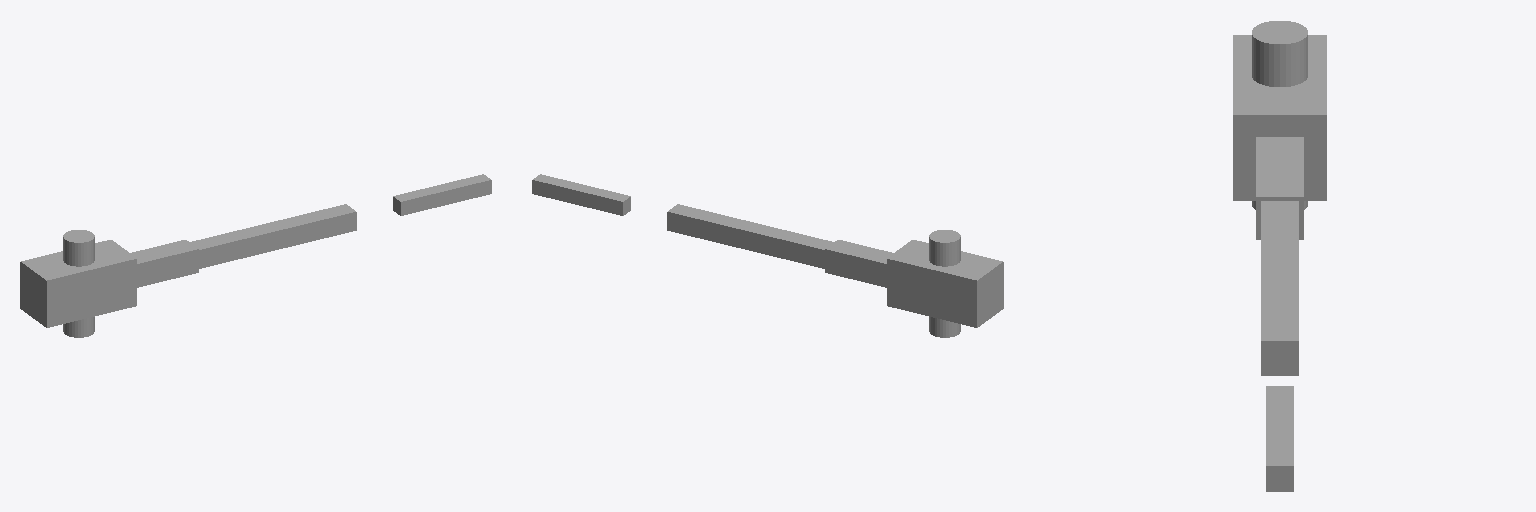
URDF robot description (Robot):
<?xml version="1.0" ?>
<robot name="Robot">
  <material name="silver">
    <color rgba="0.700 0.700 0.700 1.000"/>
  </material>

  <link name="base_link">
    <inertial>
      <origin xyz="0 0 0" rpy="0 0 0"/>
      <mass value="0.01"/>
      <inertia ixx="0.001" iyy="0.001" izz="0.001" ixy="0.0" iyz="0.0" ixz="0.0"/>
    </inertial>
    <visual>
      <origin xyz="0 0 0" rpy="0 0 0"/>
      <geometry>
        <box size="0.02 0.01 0.01"/>
      </geometry>
      <material name="silver"/>
    </visual>
    <collision>
      <origin xyz="0 0 0" rpy="0 0 0"/>
      <geometry>
        <box size="0.02 0.01 0.01"/>
      </geometry>
    </collision>
  </link>

  <link name="End_1">
    <inertial>
      <origin xyz="0.025 0.002 0.0" rpy="0 0 0"/>
      <mass value="0.02"/>
      <inertia ixx="1e-06" iyy="9e-06" izz="9e-06" ixy="0.0" iyz="0.0" ixz="0.0"/>
    </inertial>
    <visual>
      <origin xyz="0 0 0" rpy="0 0 0"/>
      <geometry>
        <box size="0.03 0.005 0.005"/>
      </geometry>
      <material name="silver"/>
    </visual>
    <collision>
      <origin xyz="0 0 0" rpy="0 0 0"/>
      <geometry>
        <box size="0.03 0.005 0.005"/>
      </geometry>
    </collision>
  </link>

  <link name="Middle_1">
    <inertial>
      <origin xyz="0.016 0.002 0.0" rpy="0 0 0"/>
      <mass value="0.015"/>
      <inertia ixx="0.0" iyy="2e-06" izz="2e-06" ixy="0.0" iyz="0.0" ixz="0.0"/>
    </inertial>
    <visual>
      <origin xyz="0 0 0" rpy="0 0 0"/>
      <geometry>
        <box size="0.04 0.004 0.004"/>
      </geometry>
      <material name="silver"/>
    </visual>
    <collision>
      <origin xyz="0 0 0" rpy="0 0 0"/>
      <geometry>
        <box size="0.04 0.004 0.004"/>
      </geometry>
    </collision>
  </link>

  <link name="Tip_1">
    <inertial>
      <origin xyz="0.009 0.002 0.0" rpy="0 0 0"/>
      <mass value="0.01"/>
      <inertia ixx="0.0" iyy="1e-06" izz="1e-06" ixy="0.0" iyz="0.0" ixz="0.0"/>
    </inertial>
    <visual>
      <origin xyz="0 0 0" rpy="0 0 0"/>
      <geometry>
        <box size="0.02 0.003 0.003"/>
      </geometry>
      <material name="silver"/>
    </visual>
    <collision>
      <origin xyz="0 0 0" rpy="0 0 0"/>
      <geometry>
        <box size="0.02 0.003 0.003"/>
      </geometry>
    </collision>
  </link>

  <link name="Horizontal_1">
    <inertial>
      <origin xyz="0.004 0.0 0.0" rpy="0 0 0"/>
      <mass value="0.008"/>
      <inertia ixx="0.0" iyy="0.0" izz="0.0" ixy="0.0" iyz="0.0" ixz="0.0"/>
    </inertial>
    <visual>
      <origin xyz="0 0 0" rpy="0 0 0"/>
      <geometry>
        <cylinder radius="0.003" length="0.02"/>
      </geometry>
      <material name="silver"/>
    </visual>
    <collision>
      <origin xyz="0 0 0" rpy="0 0 0"/>
      <geometry>
        <cylinder radius="0.003" length="0.02"/>
      </geometry>
    </collision>
  </link>

  <!-- Joint 1: Base to Horizontal -->
  <joint name="joint_1" type="continuous">
    <origin xyz="0 0 0" rpy="0 0 0"/>
    <parent link="base_link"/>
    <child link="Horizontal_1"/>
    <axis xyz="0 0 1"/>
  </joint>

  <!-- Joint 2: Horizontal to End -->
  <joint name="joint_2" type="continuous">
    <origin xyz="0.01 0 0" rpy="0 0 0"/>
    <parent link="Horizontal_1"/>
    <child link="End_1"/>
    <axis xyz="0 1 0"/>
  </joint>

  <!-- Joint 3: End to Middle -->
  <joint name="joint_3" type="continuous">
    <origin xyz="0.03 0 0" rpy="0 0 0"/>
    <parent link="End_1"/>
    <child link="Middle_1"/>
    <axis xyz="0 1 0"/>
  </joint>

  <!-- Joint 4: Middle to Tip -->
  <joint name="joint_4" type="continuous">
    <origin xyz="0.04 0 0" rpy="0 0 0"/>
    <parent link="Middle_1"/>
    <child link="Tip_1"/>
    <axis xyz="0 1 0"/>
  </joint>

</robot>

--- What the picture shows (computed from the rendered views, not written in the file) ---
The picture shows the robot from 3 angles, left to right: view 1: azimuth 30°, elevation 25°; view 2: azimuth 150°, elevation 25°; view 3: azimuth 270°, elevation 25°; orthographic projection.
Robot: Robot — 5 links, 4 joints (4 continuous); root link base_link; default pose: all joints at 0.
Visible links, largest first — view 1: base_link, Middle_1, End_1, Tip_1, Horizontal_1; view 2: base_link, Middle_1, End_1, Tip_1, Horizontal_1; view 3: base_link, Middle_1, Horizontal_1, End_1, Tip_1.
Link boxes in pixels (x1,y1,x2,y2): base_link: [20, 240, 136, 327]; Middle_1: [190, 204, 356, 268]; End_1: [131, 240, 198, 287]; Tip_1: [393, 174, 491, 215]; Horizontal_1: [63, 230, 94, 337]; base_link: [887, 240, 1003, 327]; Middle_1: [667, 204, 833, 268]; End_1: [825, 240, 892, 287]; Tip_1: [532, 174, 630, 215]; Horizontal_1: [929, 230, 960, 337]; base_link: [1233, 35, 1326, 200]; Middle_1: [1261, 201, 1298, 375]; Horizontal_1: [1252, 21, 1307, 209]; End_1: [1256, 137, 1303, 239]; Tip_1: [1266, 386, 1293, 491].
Bounding box of the posed robot: 0.1 × 0.01 × 0.02 m (x, y, z).
Geometry: primitives only (box / cylinder / sphere), no mesh files.
